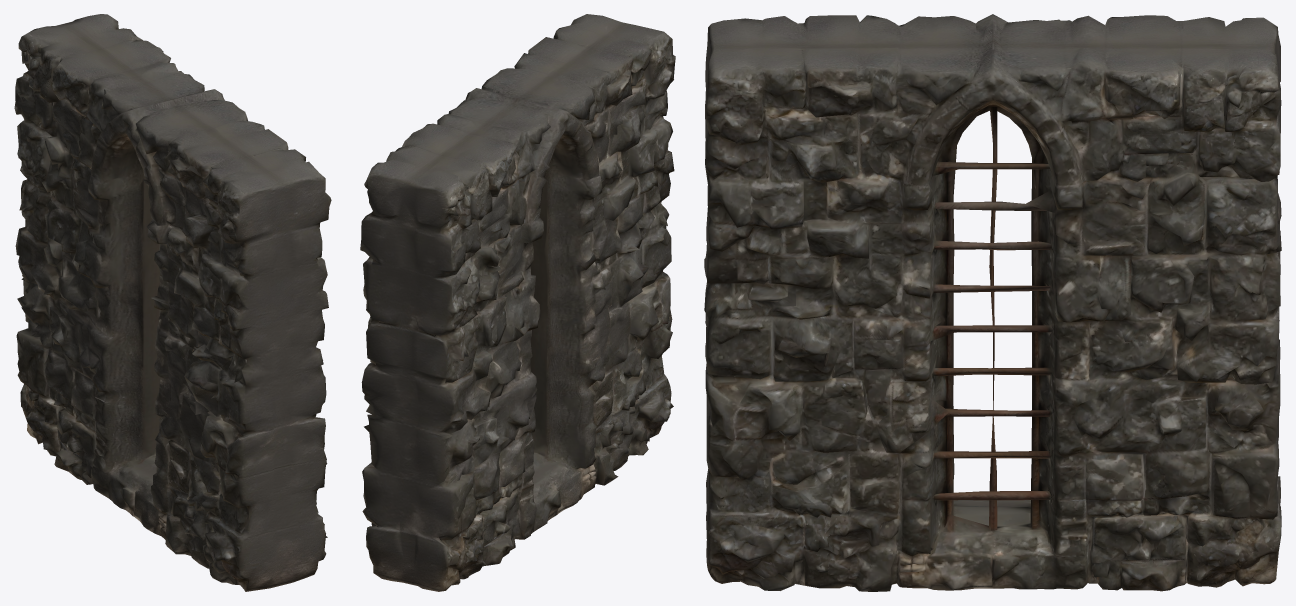
The model's file is v2_window.glb.
The picture shows the model from 3 angles, left to right: view 1: azimuth 30°, elevation 25°; view 2: azimuth 150°, elevation 25°; view 3: azimuth 270°, elevation 25°; orthographic projection. The views are drawn at different scales.
Visible parts, largest first — view 1: tripo_node_36849603-e864-4a64-96fc-fd7311318a13; view 2: tripo_node_36849603-e864-4a64-96fc-fd7311318a13; view 3: tripo_node_36849603-e864-4a64-96fc-fd7311318a13.
Part boxes in pixels (x1,y1,x2,y2): tripo_node_36849603-e864-4a64-96fc-fd7311318a13: [14, 14, 331, 591]; tripo_node_36849603-e864-4a64-96fc-fd7311318a13: [360, 14, 675, 591]; tripo_node_36849603-e864-4a64-96fc-fd7311318a13: [704, 14, 1281, 591].
Bounding box in the file's own units: 0.278 × 1 × 0.9972.
Materials: 1 (1 with a texture image).
